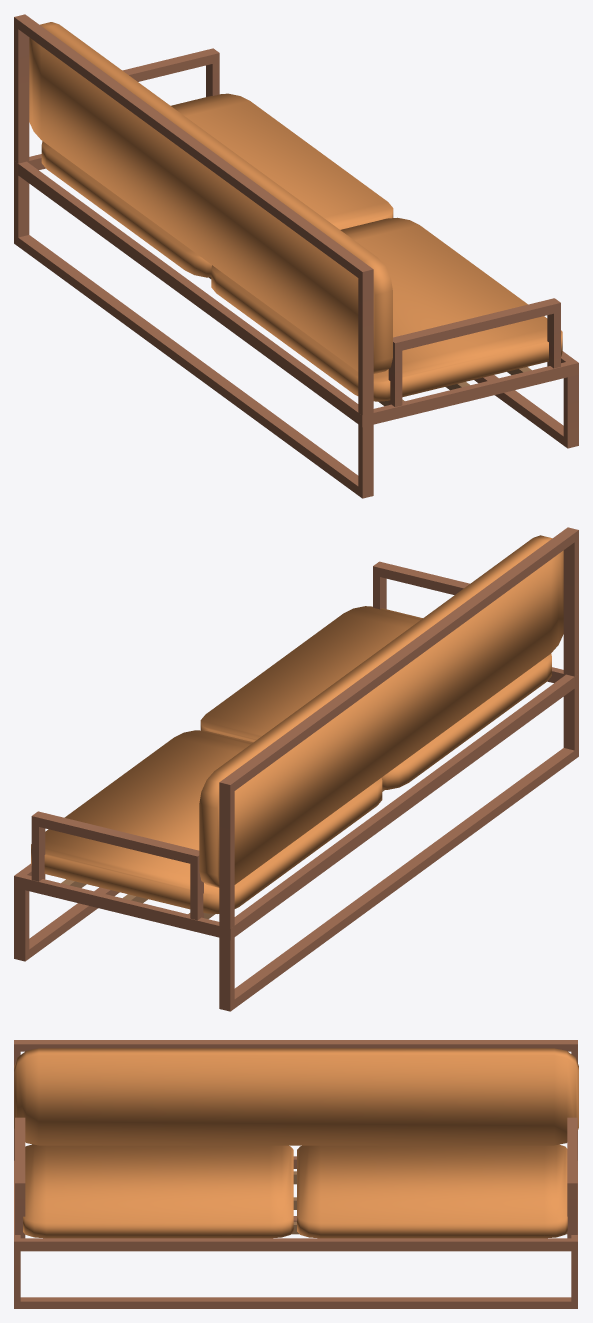
File: Couch_02.glb
3 renders of one model, top to bottom at view 1: azimuth 30°, elevation 25°; view 2: azimuth 150°, elevation 25°; view 3: azimuth 270°, elevation 25°, orthographic. The views are drawn at different scales.
Parts seen in each view (by area): view 1: Couch_02; view 2: Couch_02; view 3: Couch_02.
Part boxes in pixels (x1,y1,x2,y2): Couch_02: (14, 14, 578, 498); Couch_02: (14, 527, 578, 1011); Couch_02: (14, 1040, 578, 1308).
Size of what is drawn, in the model's own units: 1.35 by 1.35 by 3.76.
Materials: 1 (1 with a texture image).
